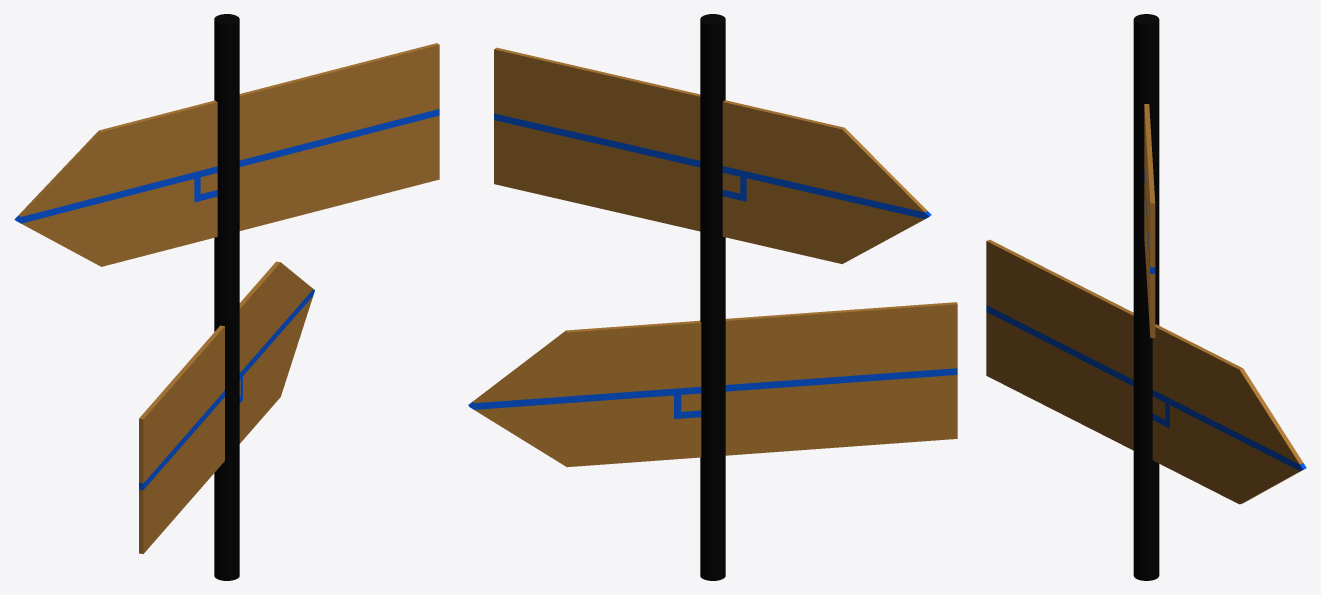
File: nejire.glb
3 renders of one model, left to right at view 1: azimuth 30°, elevation 25°; view 2: azimuth 150°, elevation 25°; view 3: azimuth 270°, elevation 25°, orthographic.
Parts seen in each view (by area): view 1: 看板１, 看板２, 支柱; view 2: 看板２, 看板１, 支柱; view 3: 看板２, 支柱, 看板１.
Part boxes in pixels (x1,y1,x2,y2): 看板１: (14,43,439,266); 看板２: (139,261,314,553); 支柱: (214,14,239,580); 看板２: (468,302,957,467); 看板１: (494,47,931,264); 支柱: (700,14,725,580); 看板２: (986,239,1306,504); 支柱: (1133,14,1159,580); 看板１: (1144,104,1155,337).
Bounding box in the file's own units: 20 × 24.77 × 12.94.
